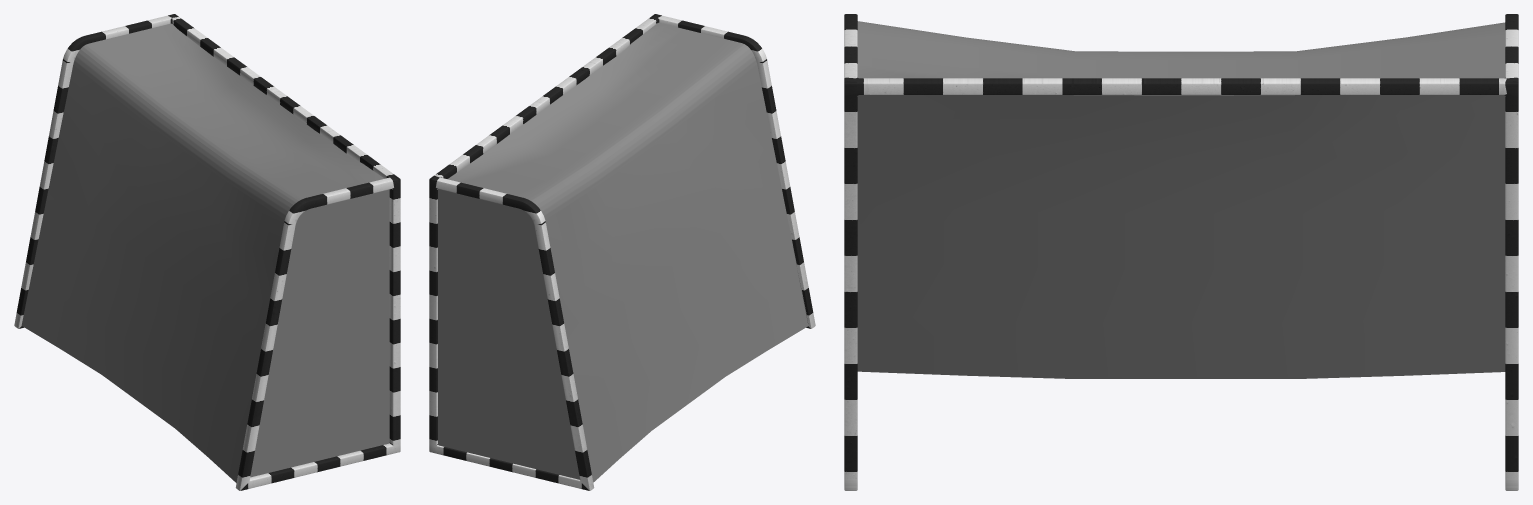
Rendered from goaal.fbx.
The picture shows the model from 3 angles, left to right: view 1: azimuth 30°, elevation 25°; view 2: azimuth 150°, elevation 25°; view 3: azimuth 270°, elevation 25°; orthographic projection. The views are drawn at different scales.
Parts seen in each view (by area): view 1: Gates002, Line001; view 2: Gates002, Line001; view 3: Gates002, Line001.
Part boxes in pixels (box(x1,y1,x2,y2)): Gates002: box(21, 23, 389, 482); Line001: box(14, 14, 400, 490); Gates002: box(438, 22, 808, 482); Line001: box(429, 14, 815, 490); Gates002: box(857, 21, 1505, 378); Line001: box(844, 14, 1518, 490).
Bounding box in the file's own units: 306 × 496 × 743.
2 materials, 1 textured.
